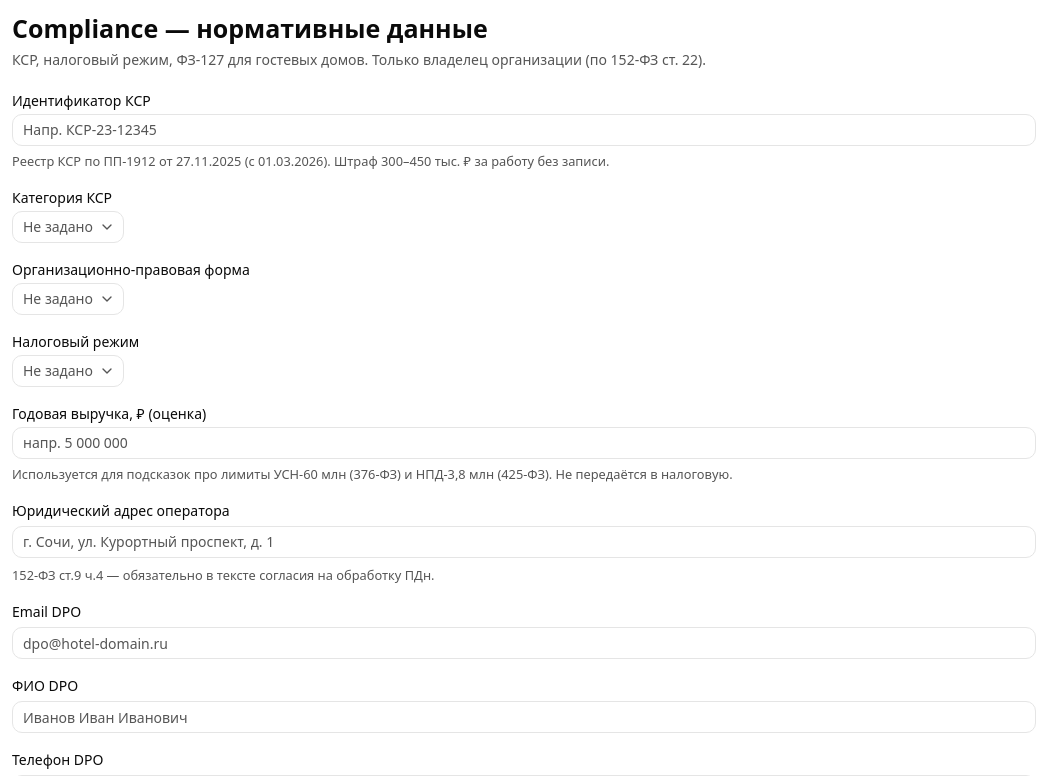
Scenario: <ComplianceStep> — enum coverage (drift surface) › [E3] all 7 taxRegime options present
Step 1. Click the dropdown named "Налоговый режим" → click(68, 371), box [12,355,124,387]
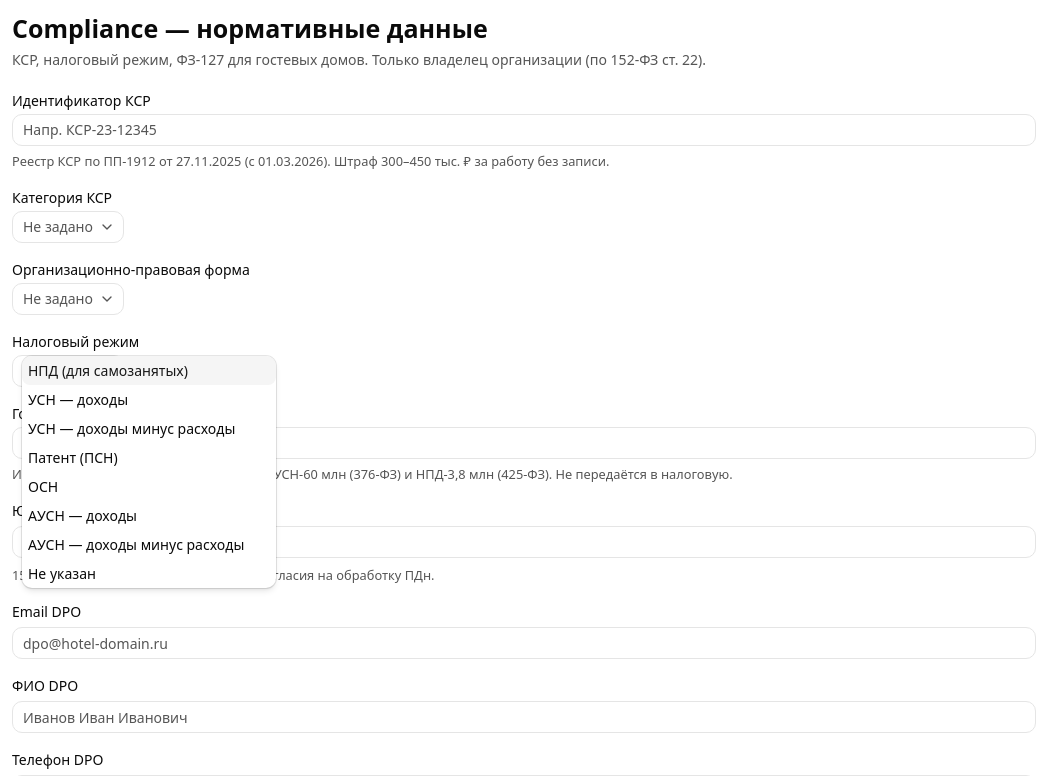
Expected: the number of options is 8
